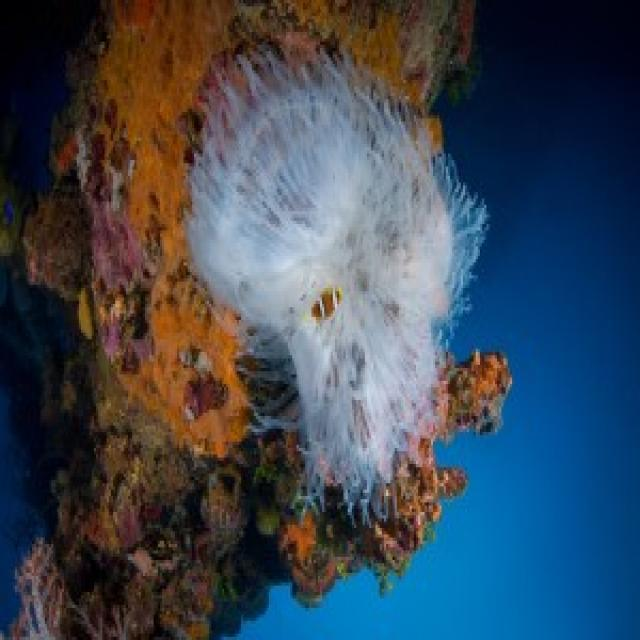Bleached: (191, 76, 488, 433)
Healthy: (1, 463, 225, 640), (1, 108, 135, 359)
